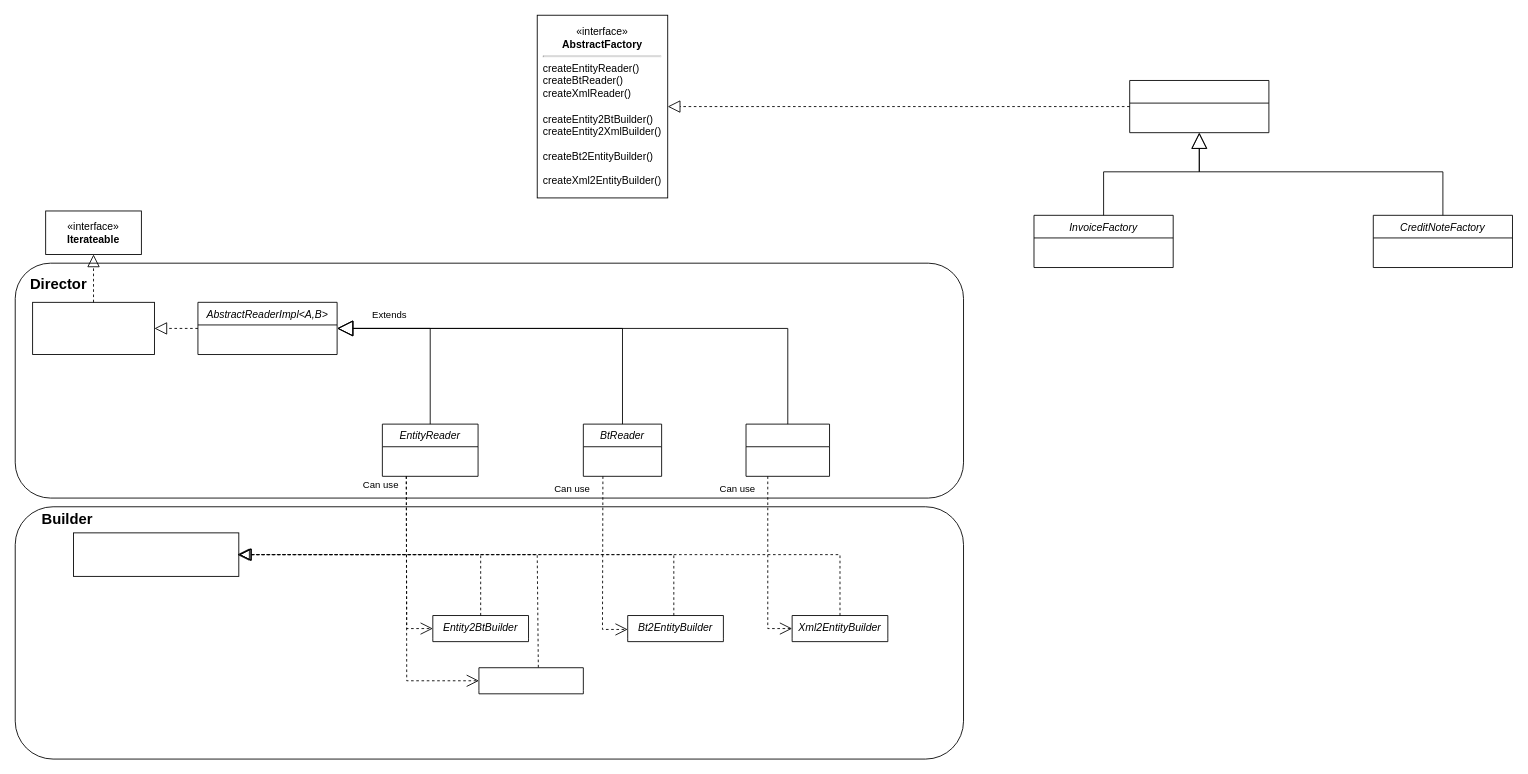
The diagram is 1528 pixels wide and 774 high, and some of its shapes have lost their labels. Here are the shapes that lost their labels. From the top down, the box of each, then its label:
(1129, 80, 1269, 133): AbstractFactoryImpl
(32, 301, 154, 355): «interface» AbstractReader<A,B>
(745, 423, 830, 476): XmlReader
(73, 532, 239, 576): «interface» AbstractTransformBuilder<B,C>
(478, 667, 583, 694): Entity2XmlBuilder
